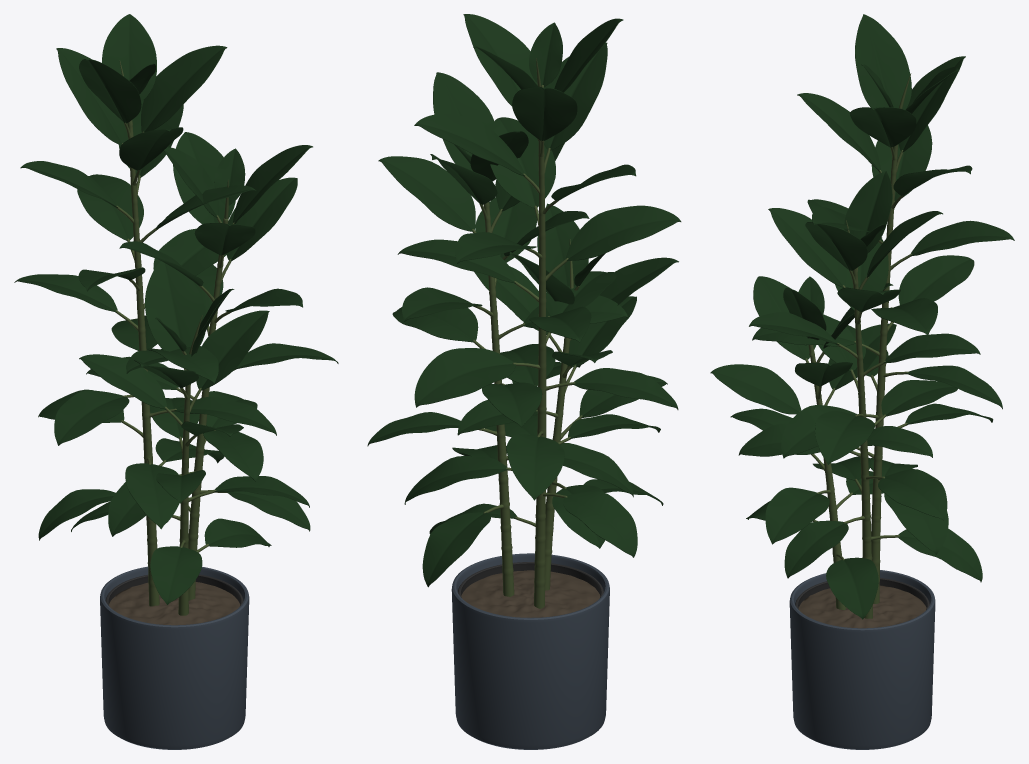
File: rubber_plant.glb
3 renders of one model, left to right at view 1: azimuth 30°, elevation 25°; view 2: azimuth 150°, elevation 25°; view 3: azimuth 270°, elevation 25°, orthographic. The views are drawn at different scales.
Visible parts, largest first — view 1: plant_rubber_leaves, plant_rubber_pot, plant_rubber_stems, plant_rubber_soil, plant_rubber_pot_liner; view 2: plant_rubber_leaves, plant_rubber_pot, plant_rubber_stems, plant_rubber_soil, plant_rubber_pot_liner; view 3: plant_rubber_leaves, plant_rubber_pot, plant_rubber_stems, plant_rubber_soil, plant_rubber_pot_liner.
Boxes of the visible parts, x1,y1,x2,y2 form: plant_rubber_leaves: (14,14,338,604); plant_rubber_pot: (100,566,249,749); plant_rubber_stems: (115,60,235,615); plant_rubber_soil: (109,582,240,625); plant_rubber_pot_liner: (105,574,243,606); plant_rubber_leaves: (367,14,681,587); plant_rubber_pot: (451,553,609,749); plant_rubber_stems: (472,58,582,608); plant_rubber_soil: (461,570,600,617); plant_rubber_pot_liner: (458,562,603,597); plant_rubber_leaves: (710,14,1014,619); plant_rubber_pot: (789,570,935,749); plant_rubber_stems: (799,73,912,618); plant_rubber_soil: (798,585,926,628); plant_rubber_pot_liner: (795,577,929,609).
Bounding box in the file's own units: 0.6782 × 1.61 × 0.6682.
